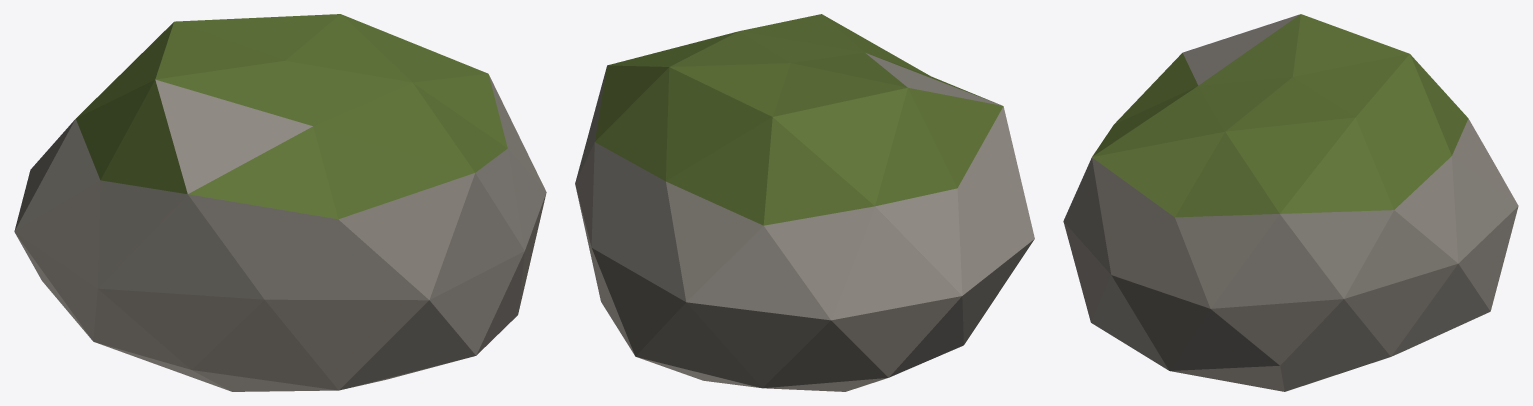
The model's file is UM_Felsbrocken.fbx.
The picture shows the model from 3 angles, left to right: view 1: azimuth 30°, elevation 25°; view 2: azimuth 150°, elevation 25°; view 3: azimuth 270°, elevation 25°; orthographic projection. The views are drawn at different scales.
Visible parts, largest first — view 1: UM_Felsbrocken; view 2: UM_Felsbrocken; view 3: UM_Felsbrocken.
Boxes of the visible parts, bbox=[...] form: UM_Felsbrocken: bbox=[14, 14, 546, 391]; UM_Felsbrocken: bbox=[575, 14, 1034, 391]; UM_Felsbrocken: bbox=[1063, 14, 1518, 391].
Size of the model in its own units: 3.43 by 2.27 by 3.4.
